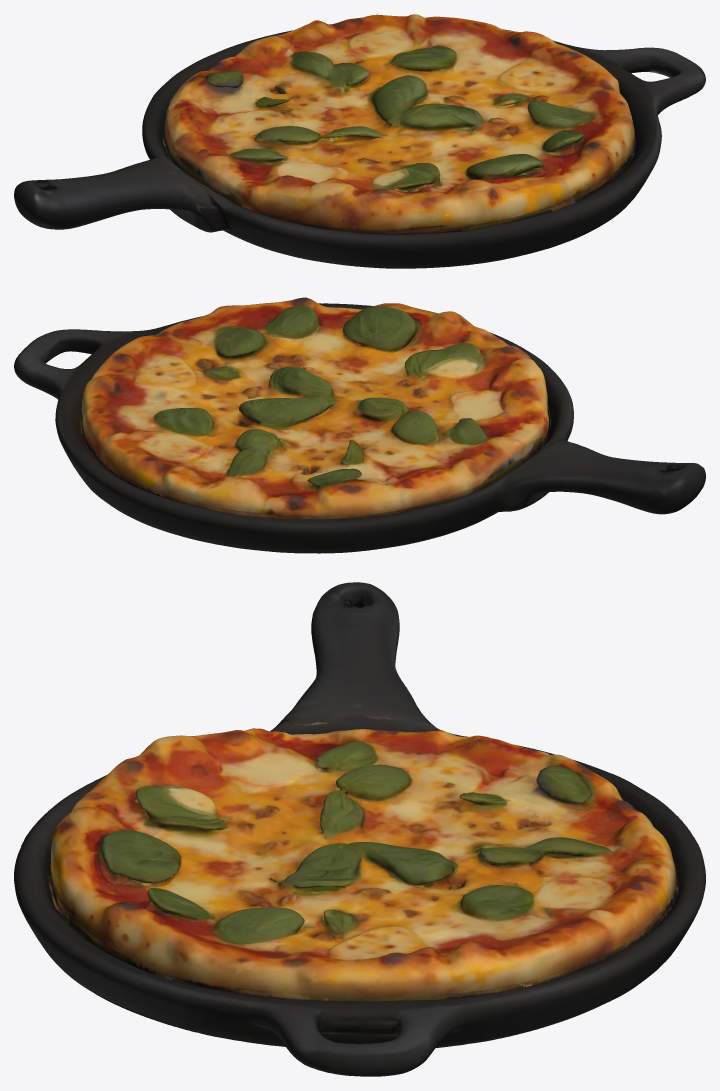
File: Pan_Pizza.glb
3 views of the same model, one above another, from view 1: azimuth 30°, elevation 25°; view 2: azimuth 150°, elevation 25°; view 3: azimuth 270°, elevation 25° (orthographic). The views are drawn at different scales.
Size of the model in its own units: 2 by 0.2194 by 1.35.
1 material, 1 textured.
